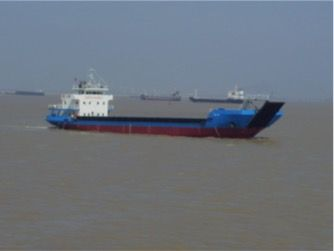Cargoship: (38, 67, 288, 138)
